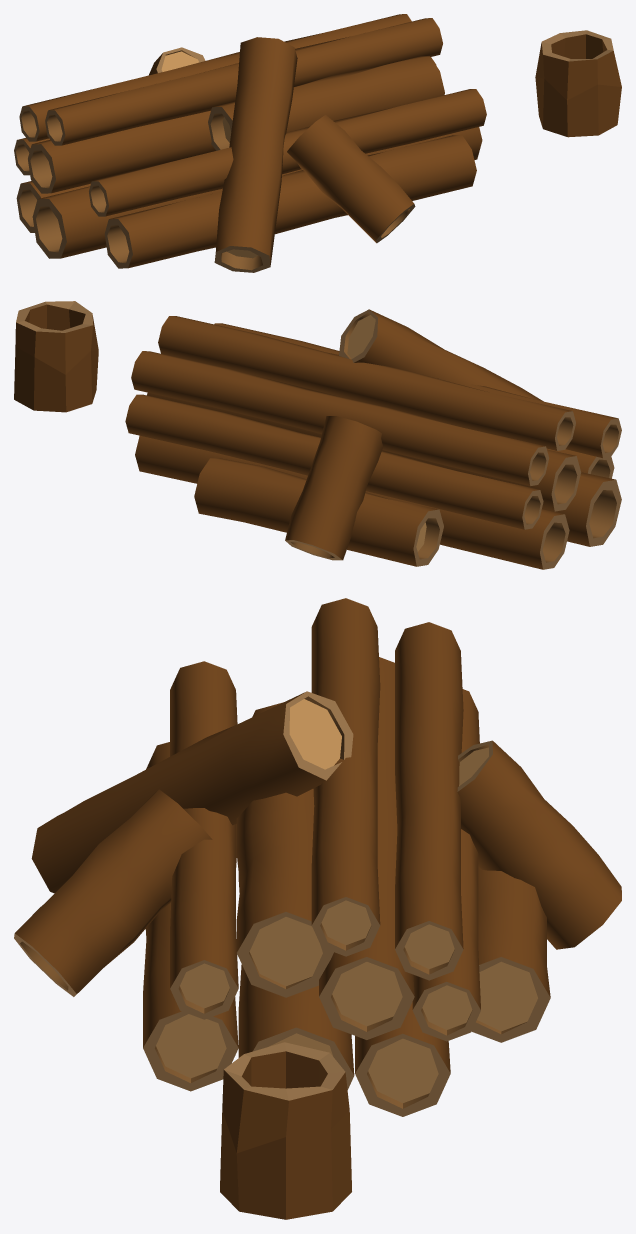
Rendered from pile-de-bois-1.glb.
The picture shows the model from 3 angles, top to bottom: view 1: azimuth 30°, elevation 25°; view 2: azimuth 150°, elevation 25°; view 3: azimuth 270°, elevation 25°; orthographic projection. The views are drawn at different scales.
Visible parts, largest first — view 1: Object_4; view 2: Object_4; view 3: Object_4.
Part boxes in pixels (x1,y1,x2,y2): Object_4: (14, 14, 621, 272); Object_4: (14, 301, 621, 569); Object_4: (14, 598, 621, 1219).
Size of the model in its own units: 4.68 by 1.36 by 2.71.
1 material, 1 textured.
